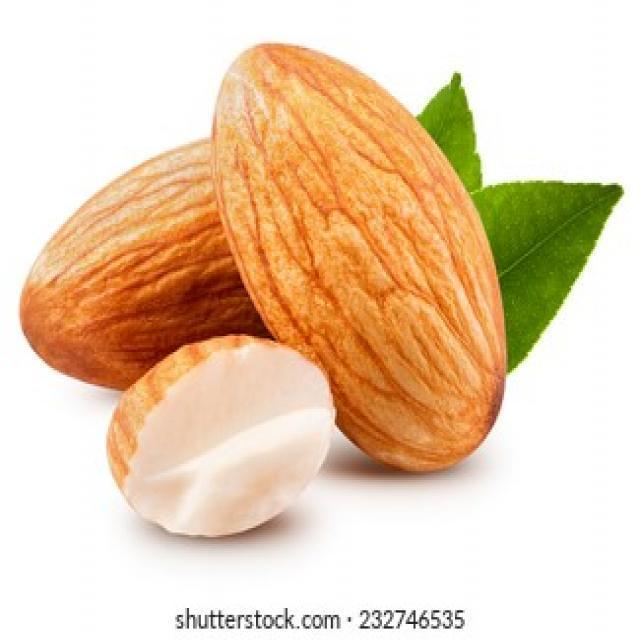almond: (207, 45, 517, 482), (15, 125, 257, 395)
